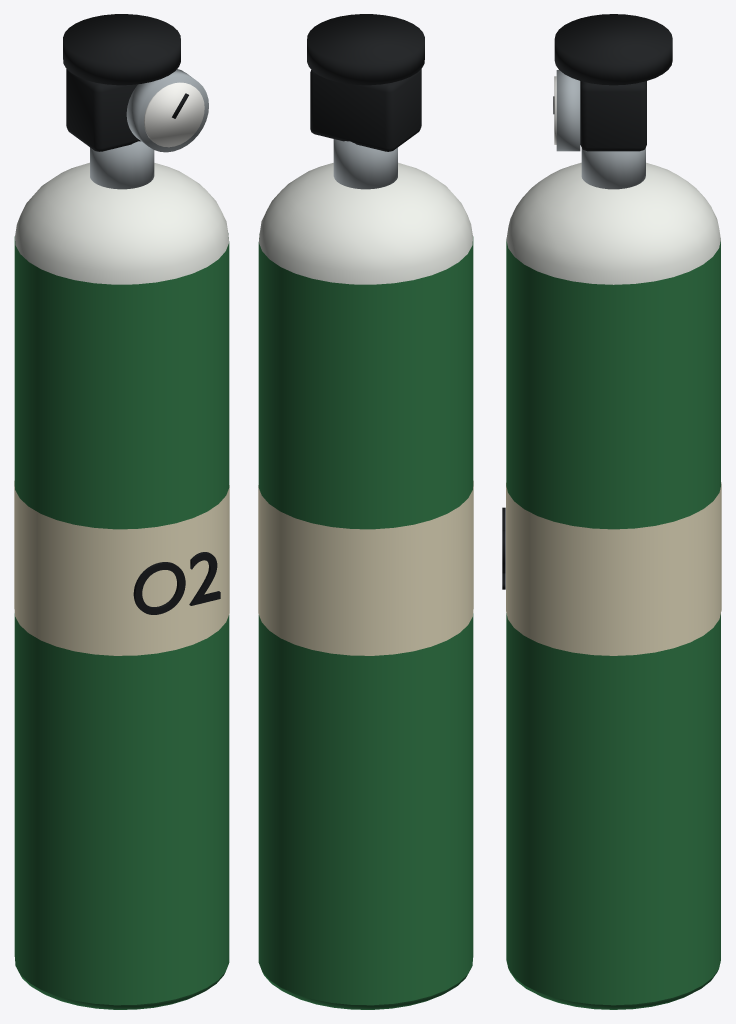
3 renders of one model, left to right at view 1: azimuth 30°, elevation 25°; view 2: azimuth 150°, elevation 25°; view 3: azimuth 270°, elevation 25°, orthographic.
Parts seen in each view (by area): view 1: O2_body, O2_label, O2_shoulder, O2_wheel, O2_valve, O2_dial, O2_neck, O2_gauge, O2_O2, O2_foot; view 2: O2_body, O2_label, O2_shoulder, O2_wheel, O2_valve, O2_neck, O2_foot; view 3: O2_body, O2_label, O2_shoulder, O2_wheel, O2_valve, O2_neck, O2_gauge, O2_foot.
Boxes of the visible parts, x1=… form: O2_body: x1=14, y1=233, x2=229, y2=1005; O2_label: x1=14, y1=481, x2=229, y2=655; O2_shoulder: x1=15, y1=162, x2=228, y2=284; O2_wheel: x1=63, y1=14, x2=180, y2=85; O2_valve: x1=66, y1=69, x2=140, y2=151; O2_dial: x1=144, y1=82, x2=204, y2=147; O2_neck: x1=90, y1=141, x2=154, y2=189; O2_gauge: x1=126, y1=69, x2=208, y2=152; O2_O2: x1=133, y1=552, x2=220, y2=614; O2_foot: x1=19, y1=972, x2=225, y2=1009; O2_body: x1=258, y1=234, x2=473, y2=1005; O2_label: x1=258, y1=481, x2=473, y2=655; O2_shoulder: x1=259, y1=162, x2=472, y2=284; O2_wheel: x1=307, y1=14, x2=424, y2=85; O2_valve: x1=310, y1=69, x2=421, y2=151; O2_neck: x1=333, y1=139, x2=397, y2=189; O2_foot: x1=262, y1=967, x2=471, y2=1009; O2_body: x1=506, y1=240, x2=720, y2=1005; O2_label: x1=506, y1=482, x2=721, y2=655; O2_shoulder: x1=506, y1=162, x2=720, y2=284; O2_wheel: x1=554, y1=14, x2=672, y2=85; O2_valve: x1=580, y1=81, x2=646, y2=151; O2_neck: x1=581, y1=147, x2=645, y2=189; O2_gauge: x1=556, y1=70, x2=580, y2=151; O2_foot: x1=509, y1=969, x2=718, y2=1009.
Bounding box in the file's own units: 0.1908 × 0.9196 × 0.1938.
